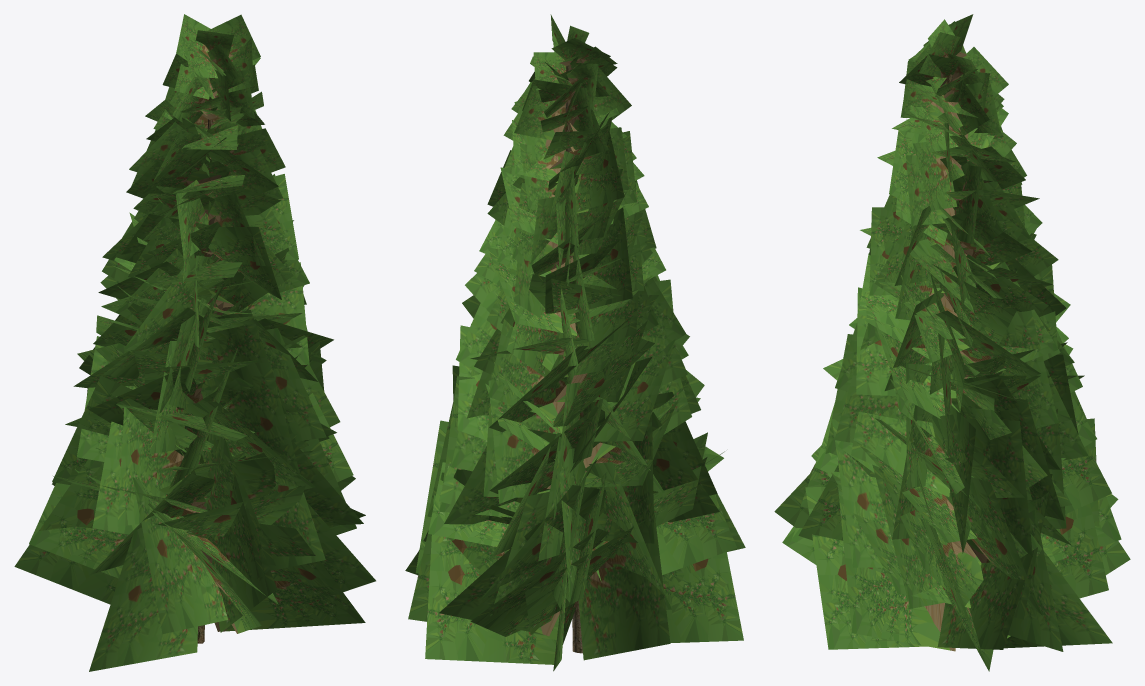
File: o3_abete_stilizzato_1.glb
3 renders of one model, left to right at view 1: azimuth 30°, elevation 25°; view 2: azimuth 150°, elevation 25°; view 3: azimuth 270°, elevation 25°, orthographic.
Visible parts, largest first — view 1: sb_modello; view 2: sb_modello; view 3: sb_modello.
Part boxes in pixels (box(x1,y1,x2,y2)): sb_modello: box(14, 14, 375, 671); sb_modello: box(405, 14, 745, 671); sb_modello: box(774, 14, 1130, 671).
Size of the model in its own units: 2.87 by 6 by 3.08.
2 materials, 2 textured.
